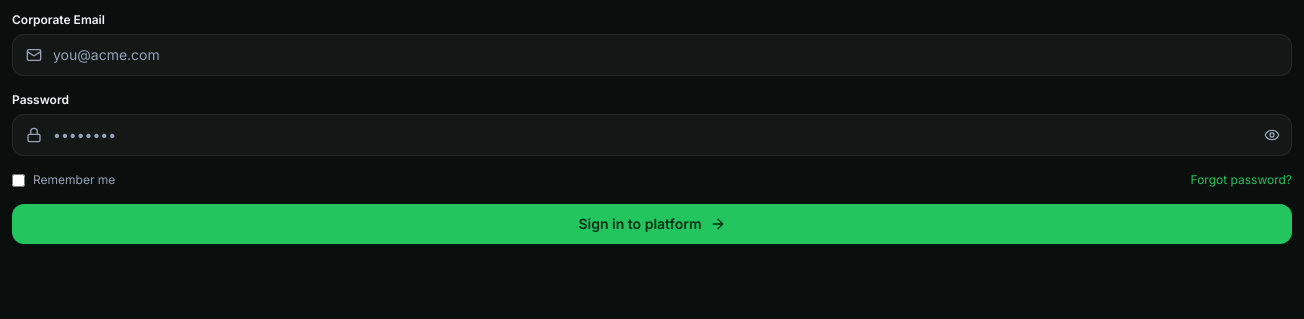
LoginForm › surfaces a server error message on invalid credentials
In the field labelled "Corporate Email": (652, 55) [12,34,1292,76], type "admin@acme.com"
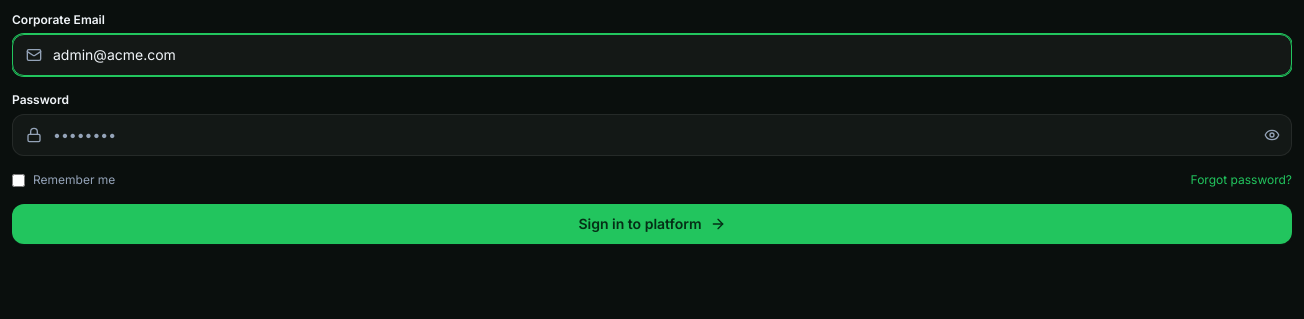
In the password field labelled "Password": (652, 135) [12,114,1292,156], type "WrongPassword1"
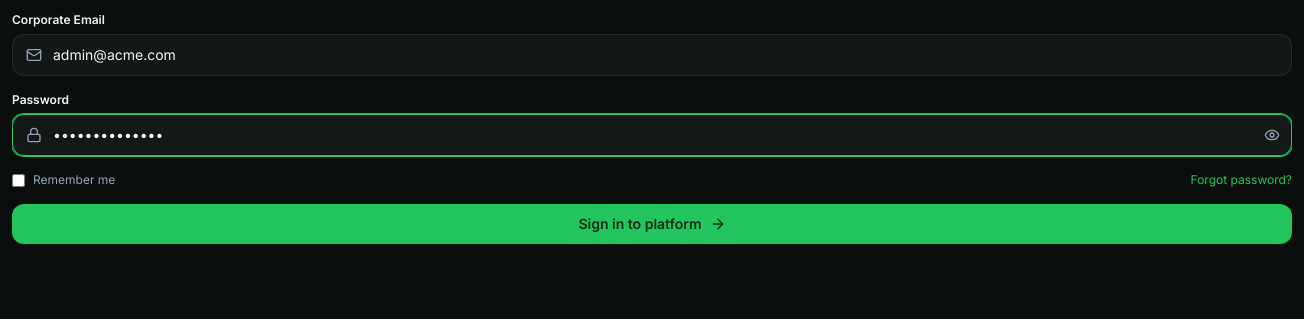
Click the button "Sign in to platform": (652, 224) [12,204,1292,244]
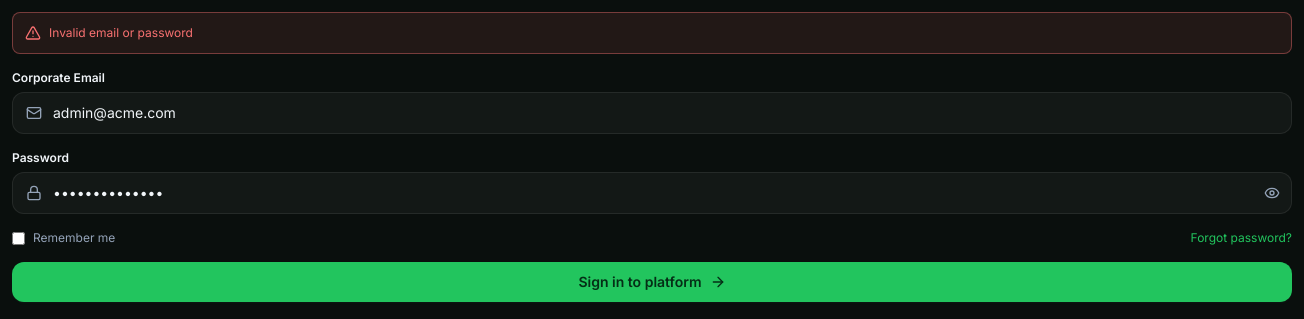
expect the text "Invalid email or password" is shown: met, box [49,25,193,41]
